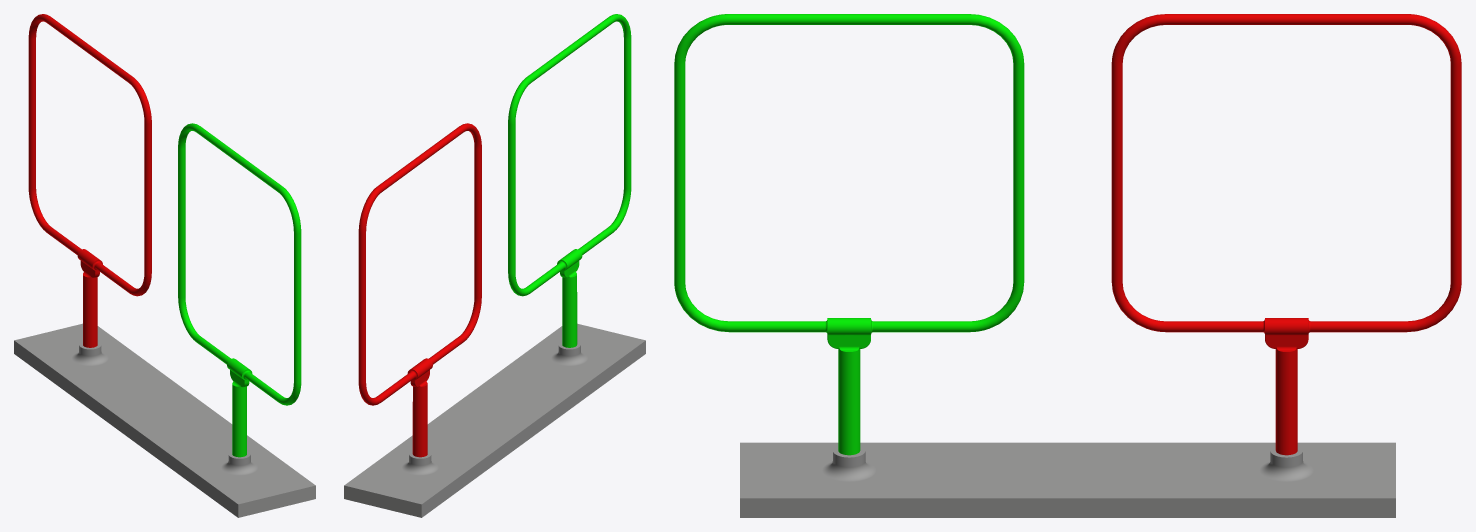
The model's file is aquavision_gate.dae.
3 views of the same model, side by side, from view 1: azimuth 30°, elevation 25°; view 2: azimuth 150°, elevation 25°; view 3: azimuth 270°, elevation 25° (orthographic). The views are drawn at different scales.
Parts seen in each view (by area): view 1: Body1.001, Body1, Body1.002; view 2: Body1.001, Body1.002, Body1; view 3: Body1.001, Body1, Body1.002.
Boxes of the visible parts, x1,y1,x2,y2 form: Body1.001: (14,323,315,517); Body1: (178,123,301,457); Body1.002: (28,14,151,347); Body1.001: (344,323,645,517); Body1.002: (358,123,481,457); Body1: (508,14,631,347); Body1.001: (740,442,1395,517); Body1: (674,14,1024,455); Body1.002: (1111,14,1461,455).
Bounding box in the file's own units: 0.3 × 1.8 × 1.2.
